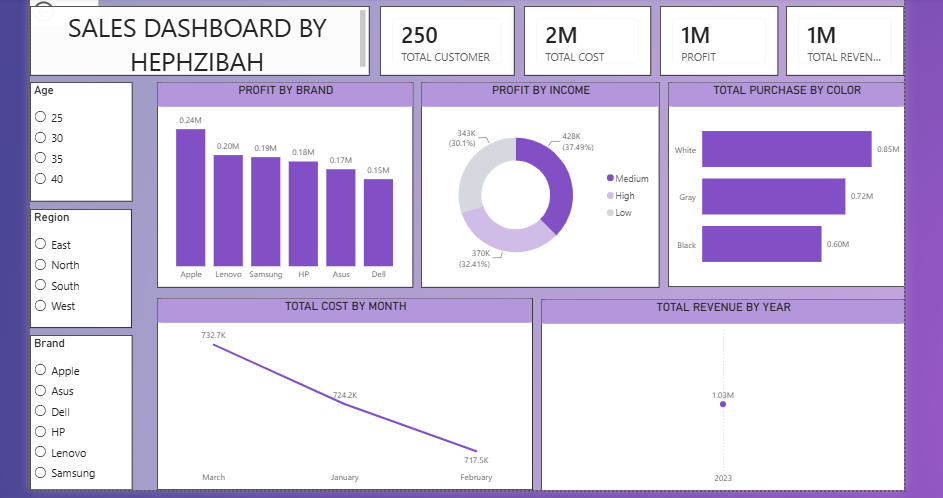

This screenshot's page, from the dashboard's own definition file:
{"tool":"powerbi","page":{"name":"Page 1","canvas":[1280,720],"ordinal":0},"visuals":[{"type":"columnChart","title":"PROFIT BY BRAND ","fields":{"Category":["Products.Brand"],"Y":["Sales.PROFIT 1"]},"box":[186.5,122.6,374.6,300.7],"z":0},{"type":"barChart","title":"TOTAL PURCHASE BY COLOR","fields":{"Category":["Products.Color"],"Y":["Sales.TOTAL PURCHASE"]},"box":[933.7,122.9,346.8,300],"z":1000},{"type":"actionButton","box":[0,0,100,40],"z":2000},{"type":"areaChart","title":"TOTAL REVENUE BY YEAR","fields":{"Y":["Sum(Sales.REVENUE)"],"Category":["Sales.SaleDate.Variation.Date Hierarchy.Year"]},"box":[747.5,440.1,532.5,280.5],"z":3000},{"type":"lineChart","title":"TOTAL COST BY MONTH","fields":{"Category":["Sales.Month Name"],"Y":["Sum(Sales.COGS)"]},"box":[186.5,438.4,549.3,282.2],"z":4000},{"type":"donutChart","title":"PROFIT BY INCOME","fields":{"Category":["Customers.IncomeLevel"],"Y":["Sales.PROFIT 1"]},"box":[572.8,122.6,349.4,300.7],"z":5000},{"type":"listSlicer","fields":{"Values":["Customers.Age"]},"box":[0,122.6,149.5,174.7],"z":6000},{"type":"listSlicer","fields":{"Values":["Customers.Region"]},"box":[0,308.8,149.3,174.1],"z":7000},{"type":"listSlicer","fields":{"Values":["Customers.CustomerName"]},"box":[0,493.2,149.5,226.8],"z":8000},{"type":"cardVisual","fields":{"Data":["Sum(Sales.REVENUE)"]},"box":[1107,11.8,173,102.5],"z":9000},{"type":"cardVisual","fields":{"Data":["Sales.TOTAL PURCHASE"]},"box":[512.3,11.8,196.5,102.5],"z":10000},{"type":"cardVisual","fields":{"Data":["Sales.PROFIT 1"]},"box":[722.3,11.8,186.5,102.5],"z":11000},{"type":"cardVisual","fields":{"Data":["Sum(Sales.COGS)"]},"box":[922.2,11.8,173,102.5],"z":12000},{"type":"textbox","box":[0,11.8,497.2,102.5],"z":13000}]}

Visuals, with their boxes in screenshot pixels (x1, y1, x2, y2):
"PROFIT BY BRAND " columnChart: [154,79,410,284]
"TOTAL PURCHASE BY COLOR" barChart: [665,79,901,284]
actionButton: [27,0,95,22]
"TOTAL REVENUE BY YEAR" areaChart: [537,296,901,487]
"TOTAL COST BY MONTH" lineChart: [154,294,529,487]
"PROFIT BY INCOME" donutChart: [418,79,657,284]
listSlicer - Customers.Age: [27,79,129,198]
listSlicer - Customers.Region: [27,206,129,325]
listSlicer - Customers.CustomerName: [27,332,129,487]
cardVisual - Sum(Sales.REVENUE): [783,3,901,73]
cardVisual - Sales.TOTAL PURCHASE: [377,3,511,73]
cardVisual - Sales.PROFIT 1: [520,3,648,73]
cardVisual - Sum(Sales.COGS): [657,3,775,73]
textbox: [27,3,367,73]
